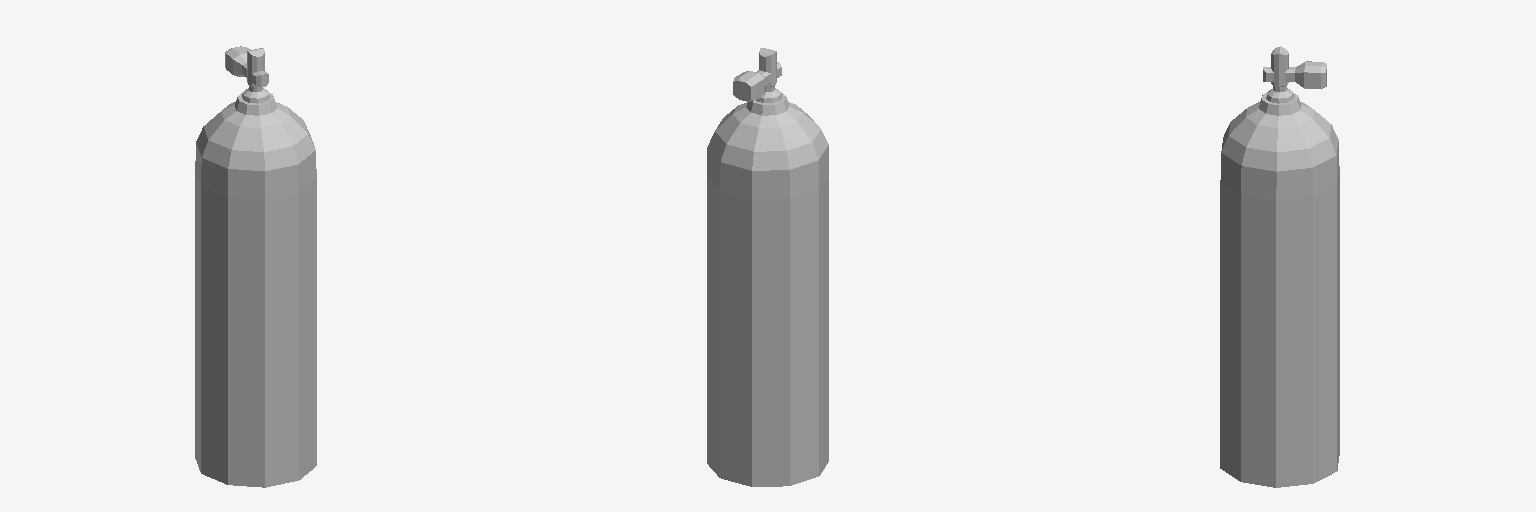
File: Tank8.obj
3 views of the same model, side by side, from view 1: azimuth 30°, elevation 25°; view 2: azimuth 150°, elevation 25°; view 3: azimuth 270°, elevation 25° (orthographic).
Visible parts, largest first — view 1: Tank8; view 2: Tank8; view 3: Tank8.
Boxes of the visible parts, x1=… form: Tank8: x1=195, y1=46, x2=316, y2=487; Tank8: x1=707, y1=48, x2=828, y2=486; Tank8: x1=1220, y1=46, x2=1339, y2=487.
Size of the model in its own units: 41.5 by 153 by 40.2.